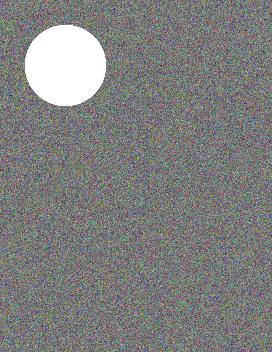A: (20, 21, 260, 339)
